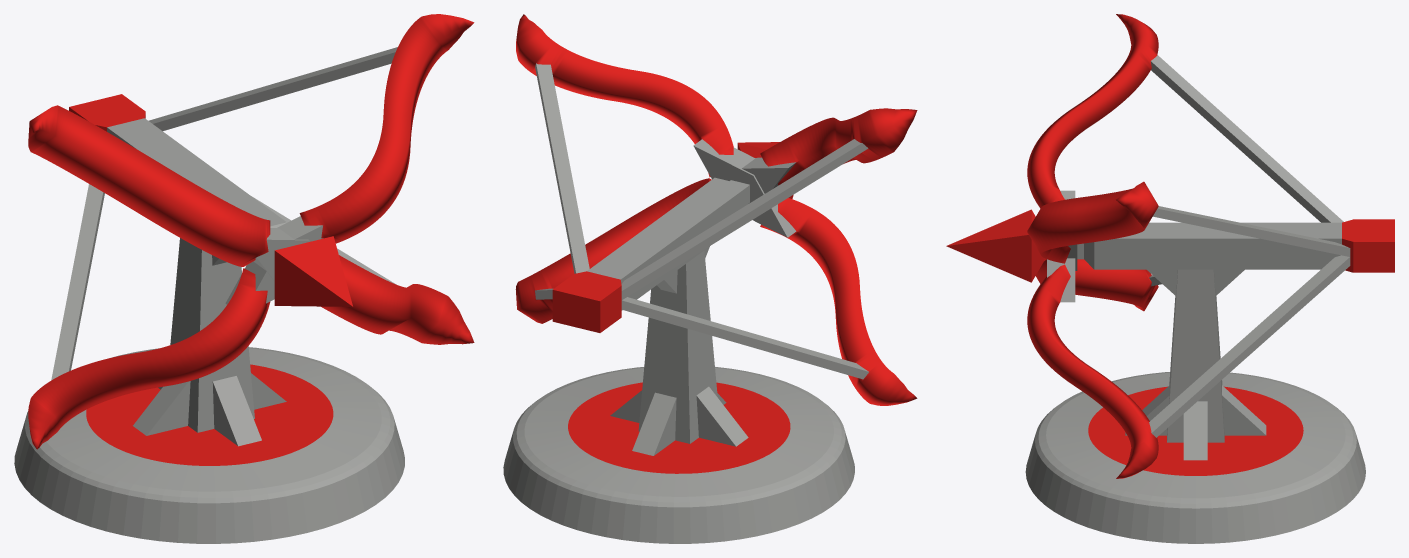
Rendered from ballista_upgraded_fire.fbx.
The picture shows the model from 3 angles, left to right: view 1: azimuth 30°, elevation 25°; view 2: azimuth 150°, elevation 25°; view 3: azimuth 270°, elevation 25°; orthographic projection. The views are drawn at different scales.
Parts seen in each view (by area): view 1: Circle; view 2: Circle; view 3: Circle.
Part boxes in pixels (bbox=[...]): Circle: bbox=[14, 14, 474, 543]; Circle: bbox=[503, 14, 917, 543]; Circle: bbox=[946, 14, 1394, 543].
Bounding box in the file's own units: 336 × 312 × 343.
Materials: 1 (1 with a texture image).
